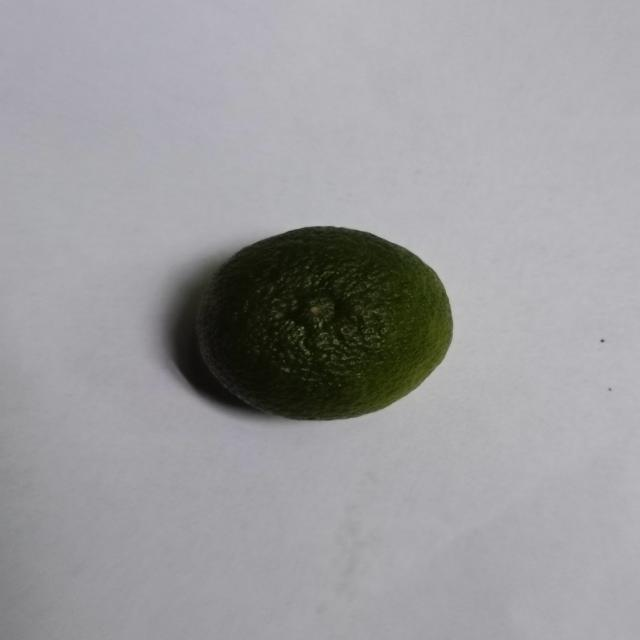heathy: (190, 228, 456, 428)
